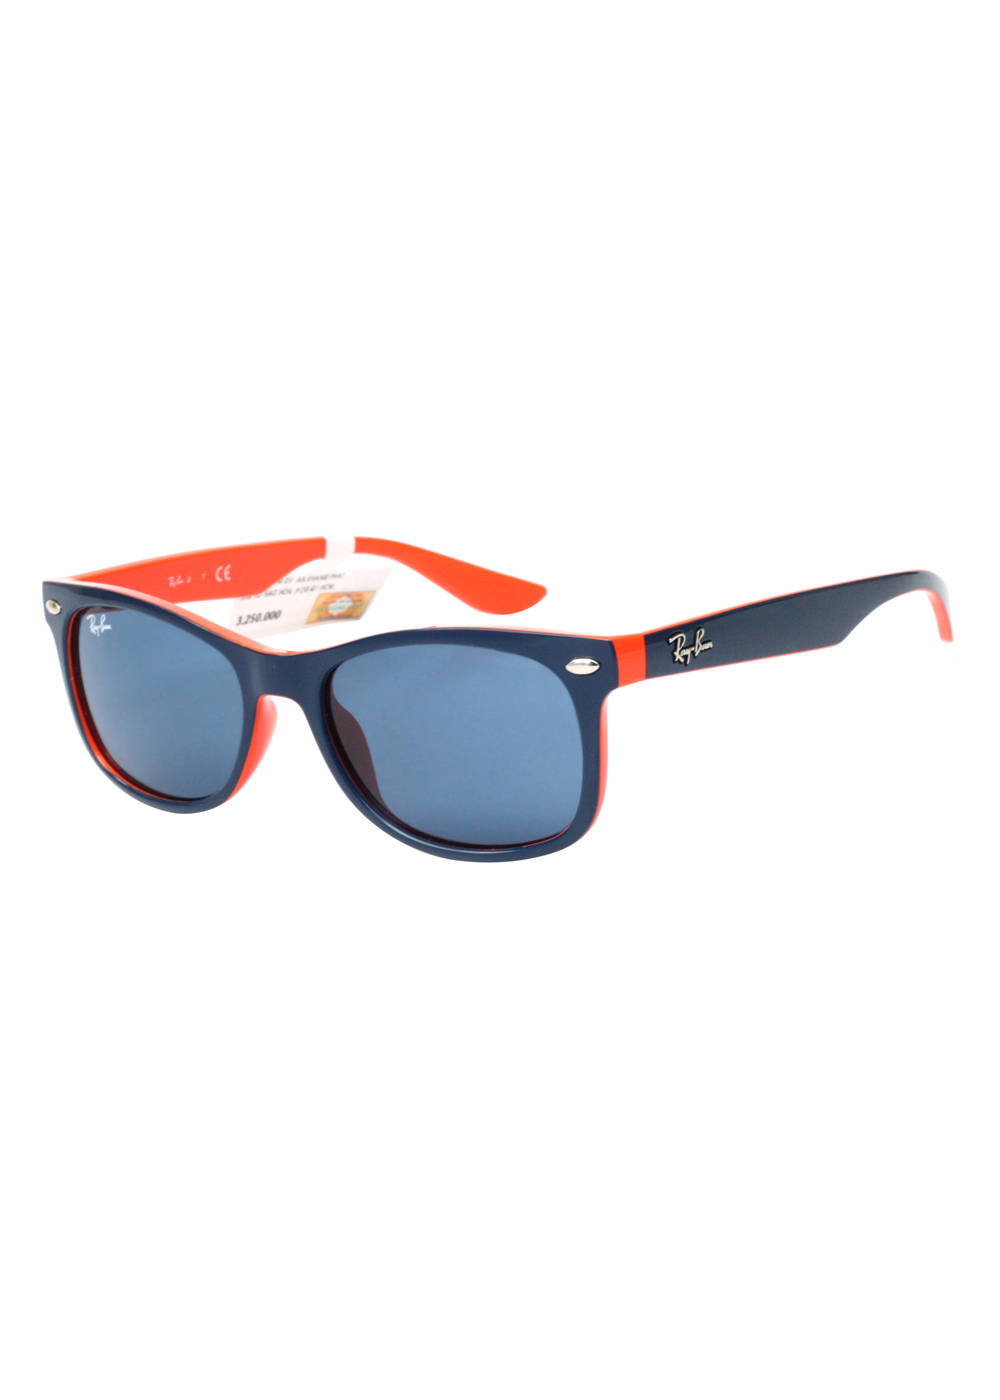Rayban: (652, 622, 723, 670), (75, 605, 124, 642)
